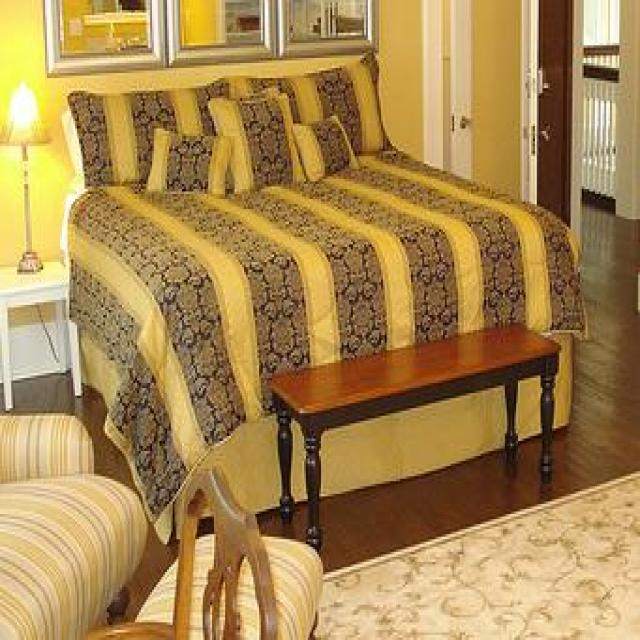bed: (59, 48, 590, 554)
